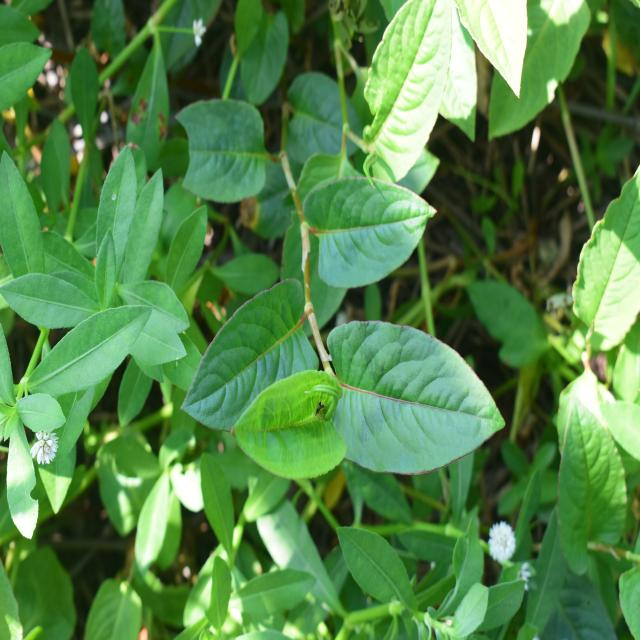Chinese_knotweed: (214, 250, 490, 505)
